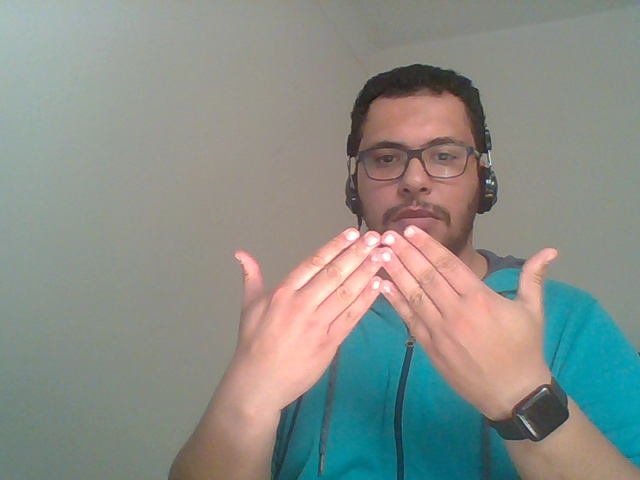thanks: (147, 205, 596, 480)
